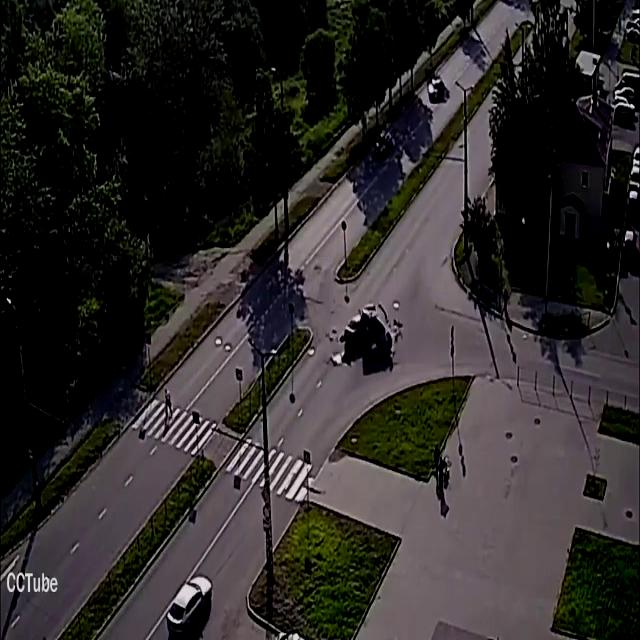accident: (329, 298, 403, 376)
